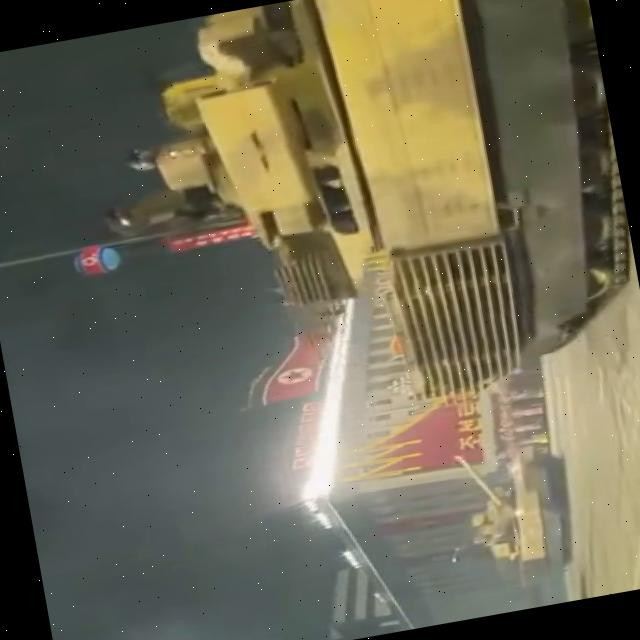north tank: (94, 0, 640, 456), (412, 424, 600, 590)
